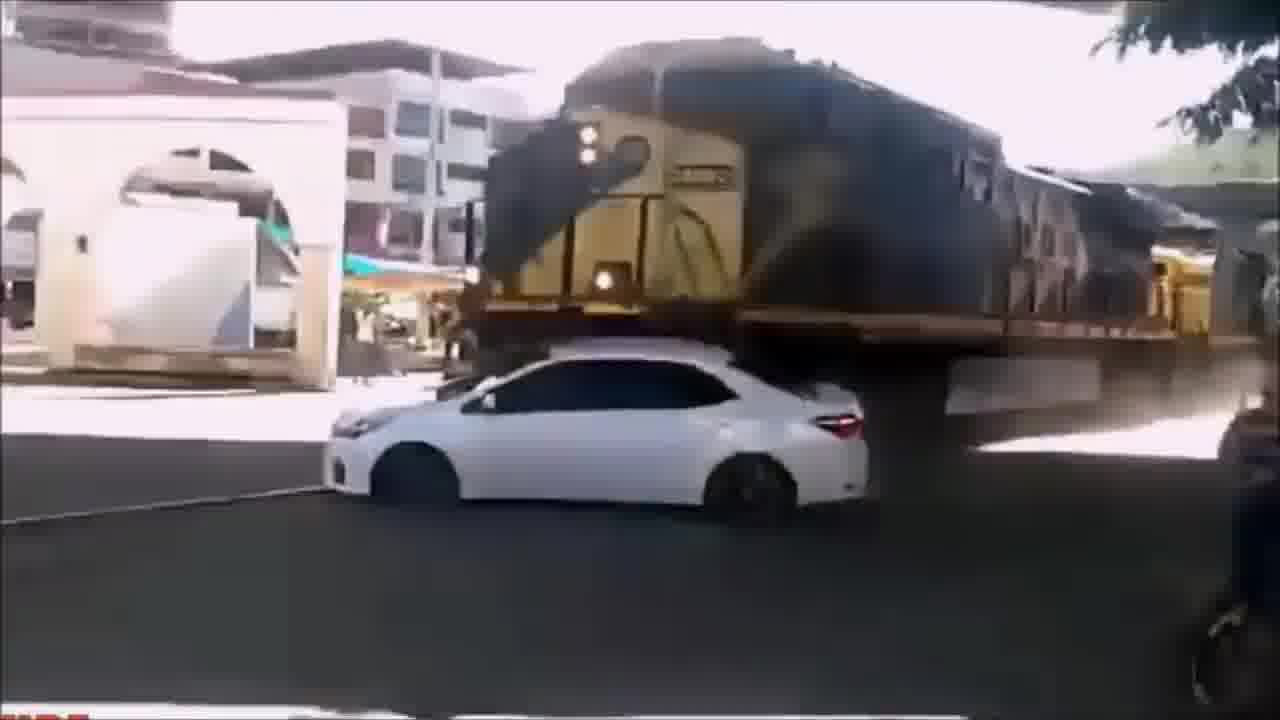crossing railway track: (287, 310, 917, 575)
